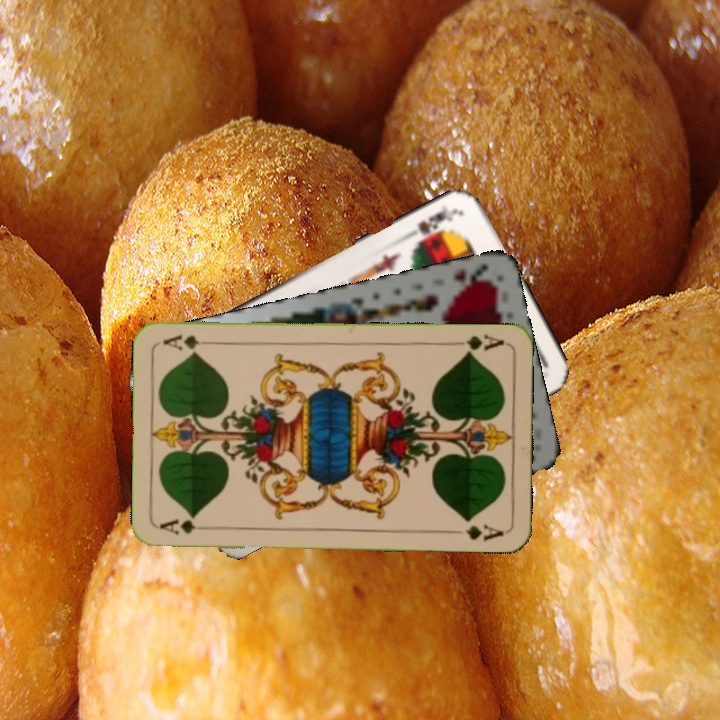GA: (448, 331, 507, 358), (156, 514, 215, 537)
HK: (450, 260, 494, 294)
SK: (404, 201, 462, 247)
